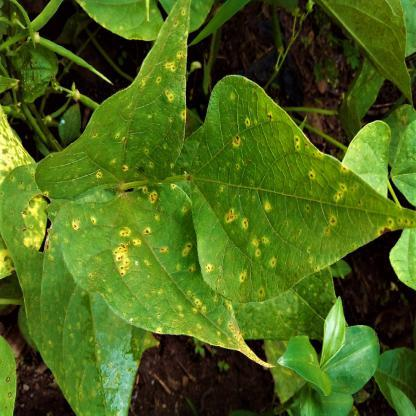Beans_Rust: (203, 84, 410, 294), (63, 190, 272, 372), (38, 3, 193, 199), (10, 182, 137, 408), (223, 245, 352, 349)
